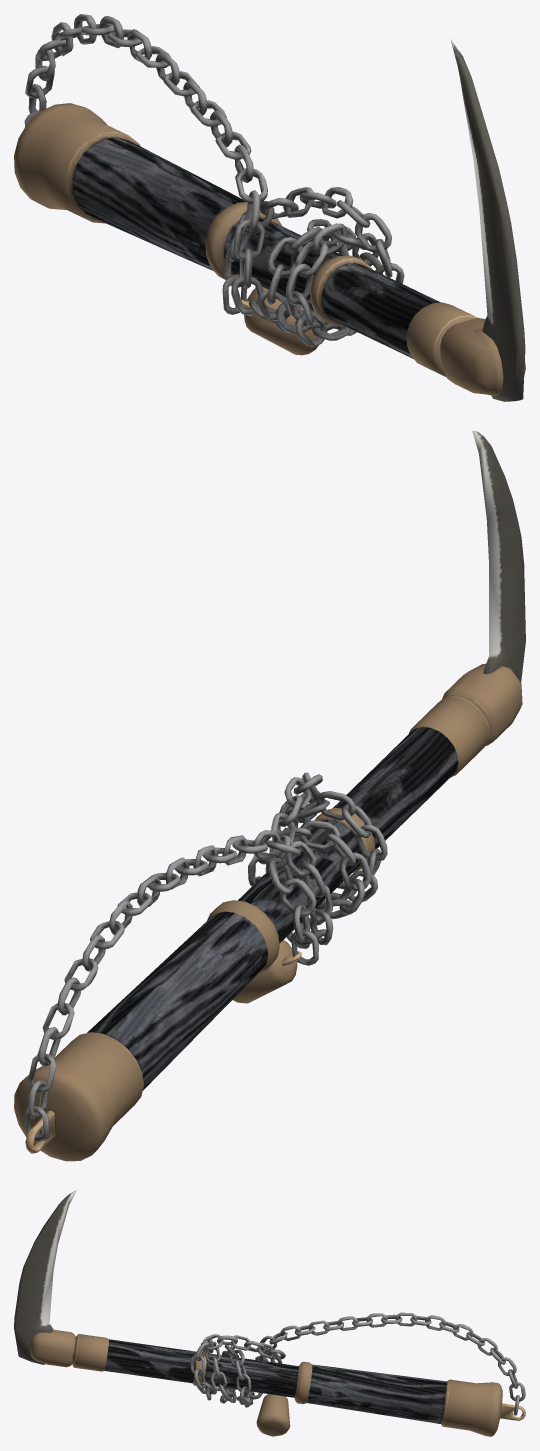
Rendered from kusarigama.glb.
3 renders of one model, top to bottom at view 1: azimuth 30°, elevation 25°; view 2: azimuth 150°, elevation 25°; view 3: azimuth 270°, elevation 25°, orthographic. The views are drawn at different scales.
Visible parts, largest first — view 1: kusarigama; view 2: kusarigama; view 3: kusarigama.
Part boxes in pixels (x1,y1,x2,y2): kusarigama: (14, 14, 525, 401); kusarigama: (14, 430, 525, 1161); kusarigama: (14, 1190, 525, 1436).
Bounding box in the file's own units: 0.1268 × 0.5144 × 1.
Materials: 1 (1 with a texture image).
